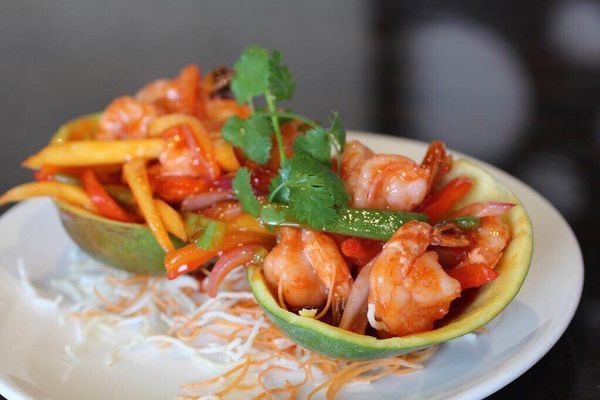pizza: (79, 168, 133, 221)
